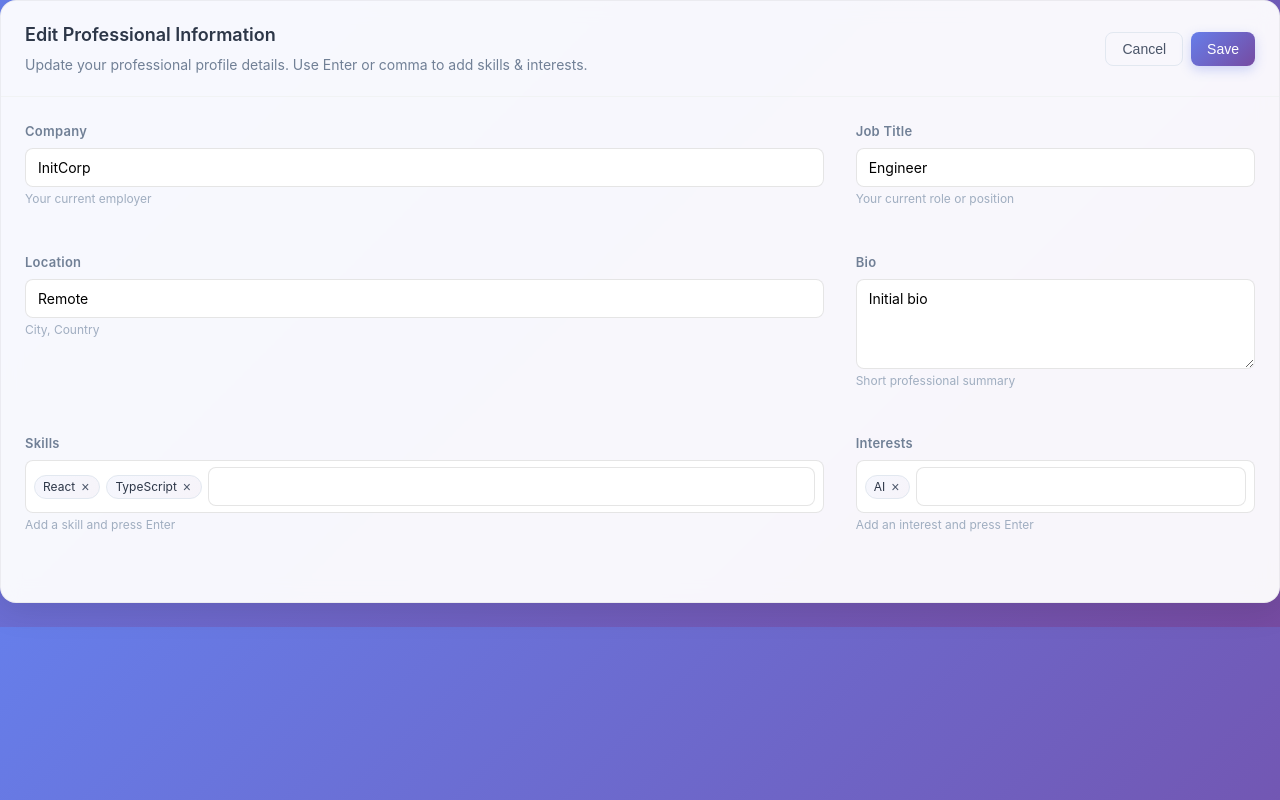
Test: EditProfessionalInfoForm › renders success feedback after successful save
Replace the text in the field labelled "Company" with "SuccessCorp" at (424, 168), box [25,148,824,187]
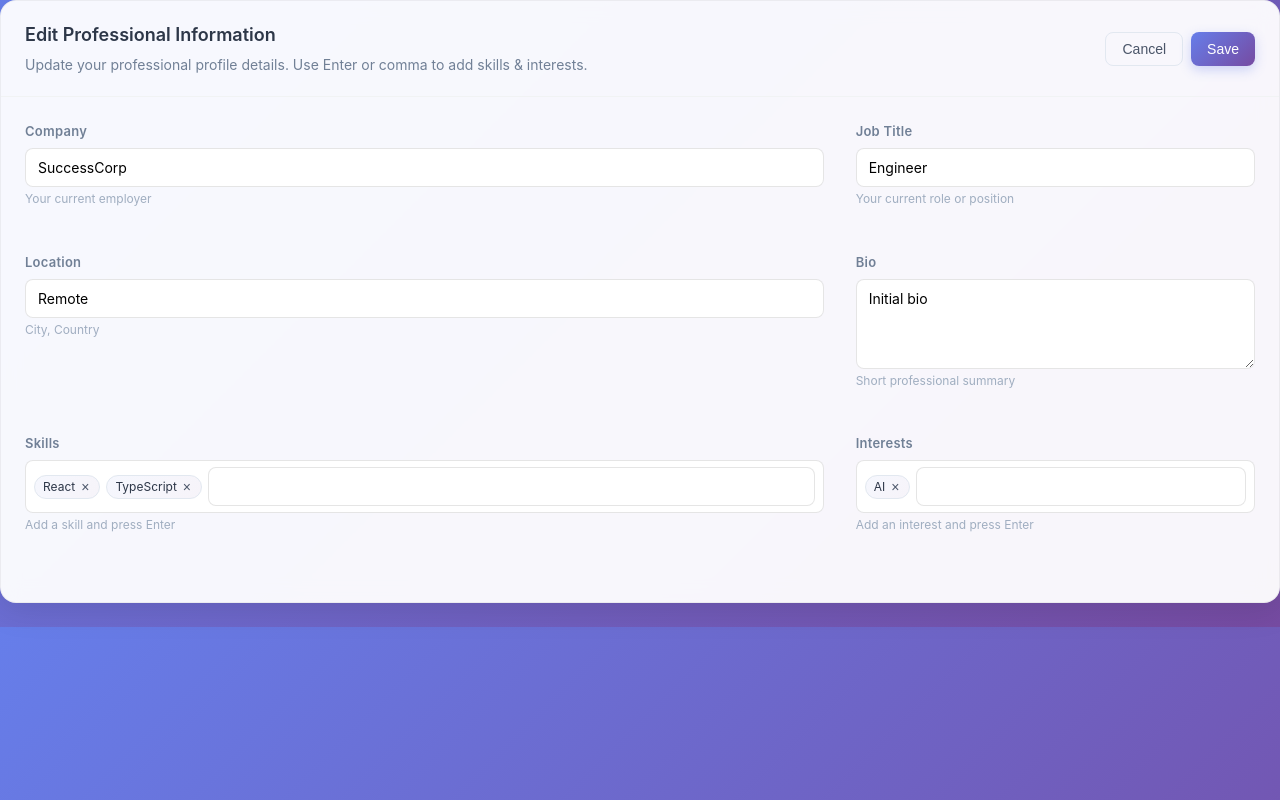
Submit the form with id "edit-professional-form", box [25,121,1255,578]
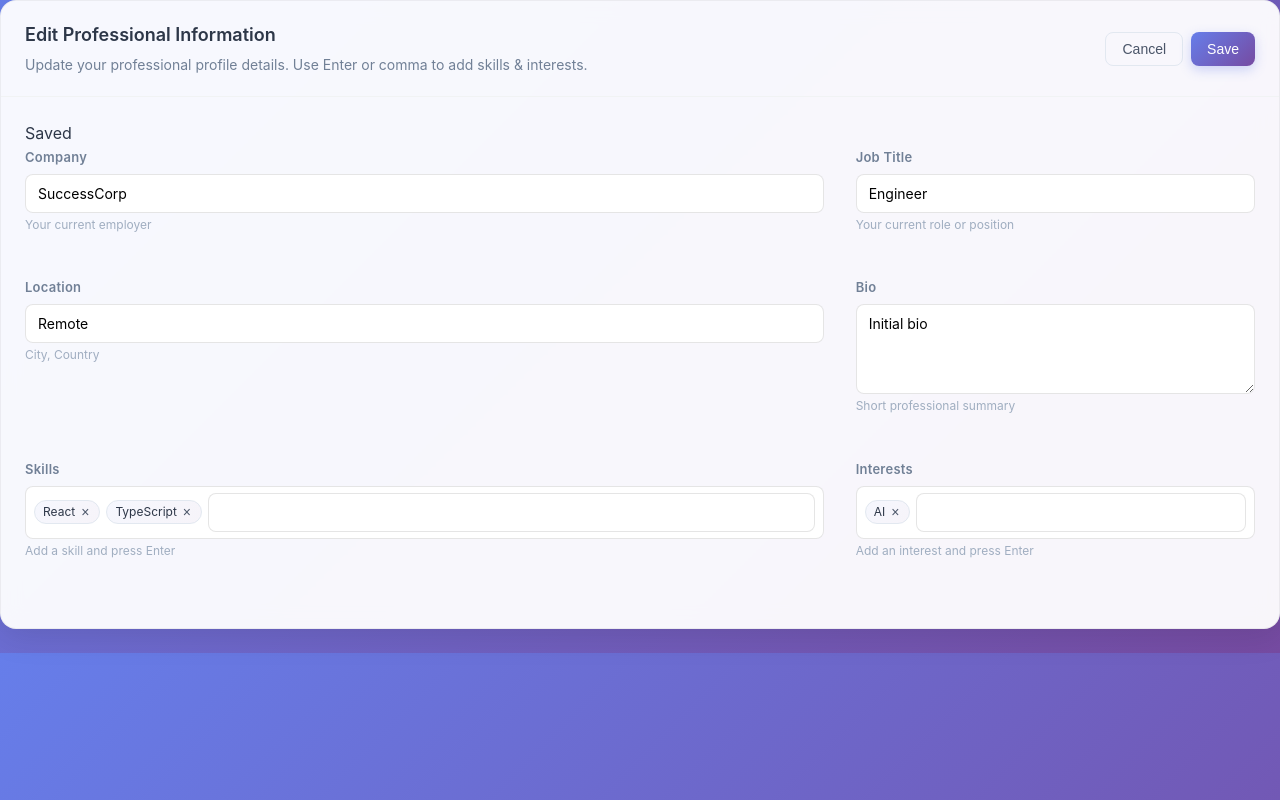
Check: the message reads "Saved", box [25,123,72,143]
